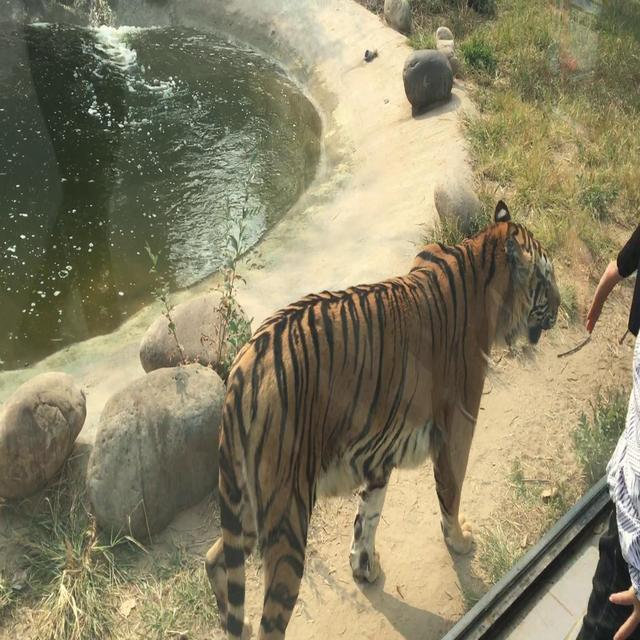tiger: (203, 197, 561, 639), (575, 506, 639, 639), (401, 25, 460, 117), (382, 0, 412, 35)
